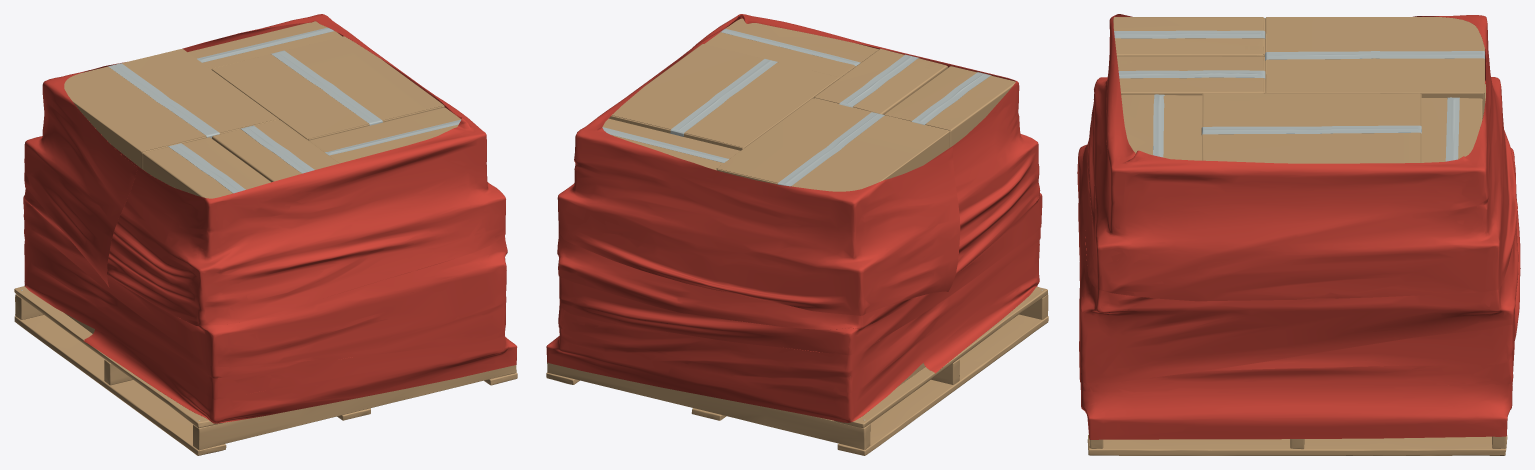
The model's file is pallet_assembly_red_a04.glb.
3 views of the same model, side by side, from view 1: azimuth 30°, elevation 25°; view 2: azimuth 150°, elevation 25°; view 3: azimuth 270°, elevation 25° (orthographic). The views are drawn at different scales.
Bounding box in the file's own units: 1.19 × 0.9022 × 1.26.
